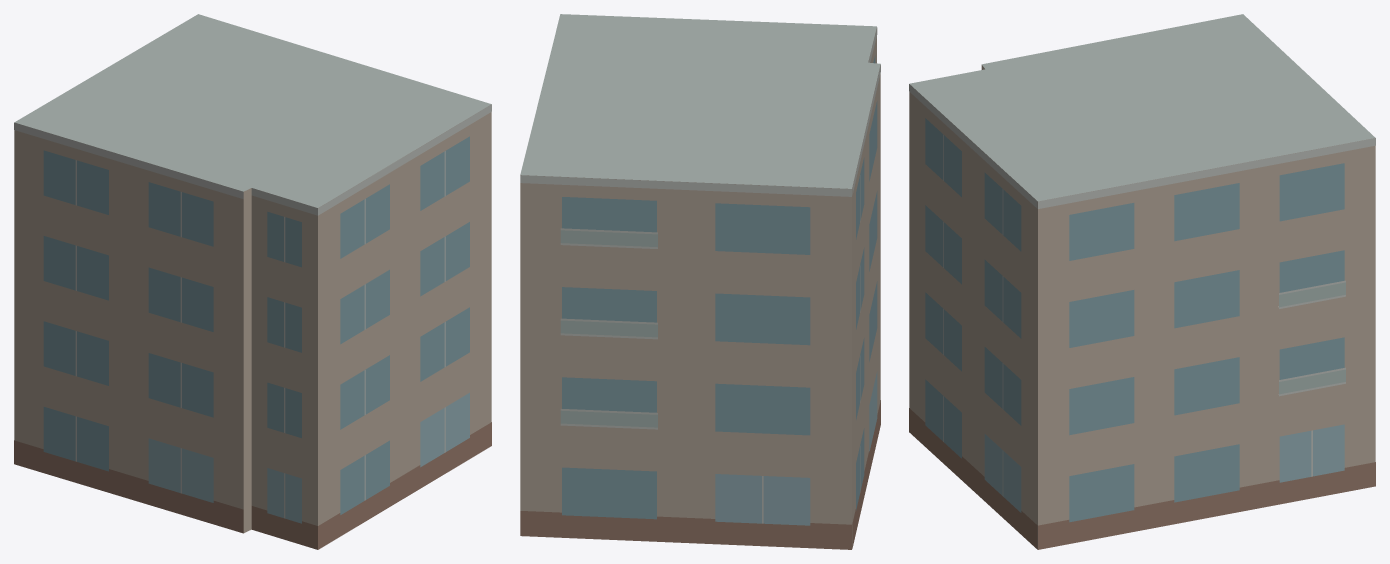
The model's file is survey-upis-32590007.glb.
3 renders of one model, left to right at view 1: azimuth 30°, elevation 25°; view 2: azimuth 150°, elevation 25°; view 3: azimuth 270°, elevation 25°, orthographic. The views are drawn at different scales.
Parts seen in each view (by area): view 1: survey-upis-32590007.tmp; view 2: survey-upis-32590007.tmp; view 3: survey-upis-32590007.tmp.
Part boxes in pixels (x1=…): survey-upis-32590007.tmp: x1=14, y1=14, x2=491, y2=549; survey-upis-32590007.tmp: x1=520, y1=14, x2=880, y2=549; survey-upis-32590007.tmp: x1=909, y1=14, x2=1375, y2=549.
Bounding box in the file's own units: 12.71 × 11 × 13.36.
